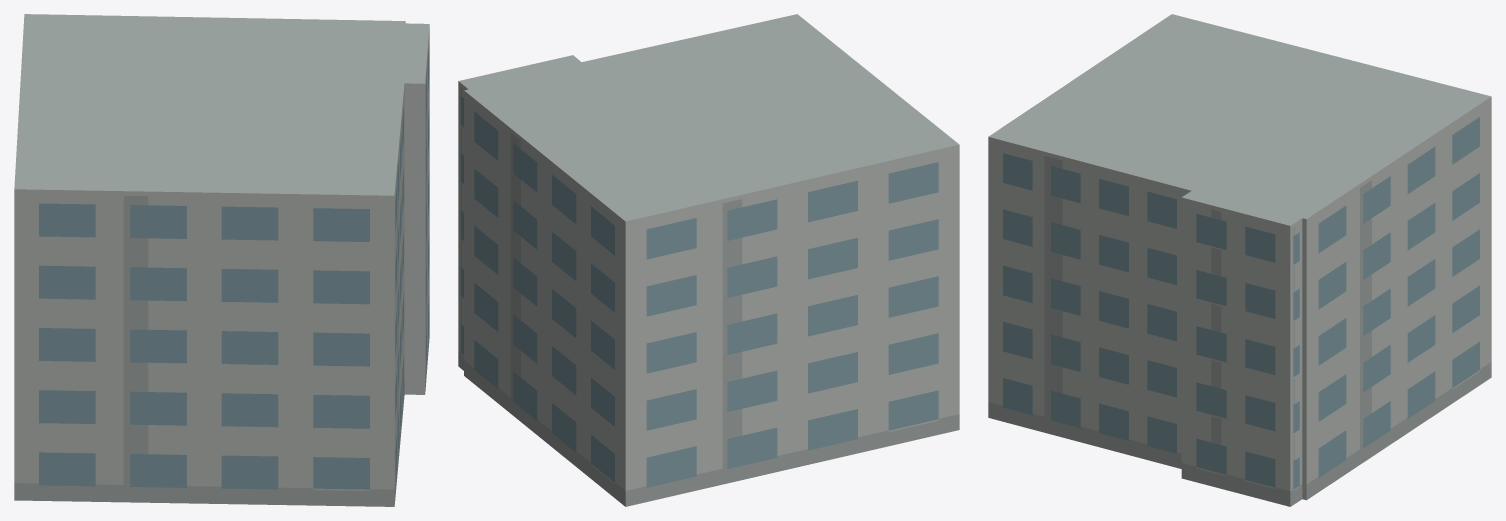
File: survey-upis-32784529.glb
The picture shows the model from 3 angles, left to right: view 1: azimuth 30°, elevation 25°; view 2: azimuth 150°, elevation 25°; view 3: azimuth 270°, elevation 25°; orthographic projection. The views are drawn at different scales.
Visible parts, largest first — view 1: survey-upis-32784529.tmp; view 2: survey-upis-32784529.tmp; view 3: survey-upis-32784529.tmp.
Boxes of the visible parts, x1,y1,x2,y2 form: survey-upis-32784529.tmp: [14, 14, 429, 506]; survey-upis-32784529.tmp: [458, 14, 959, 506]; survey-upis-32784529.tmp: [988, 14, 1491, 506].
Size of the model in its own units: 27.02 by 16.7 by 27.12.
